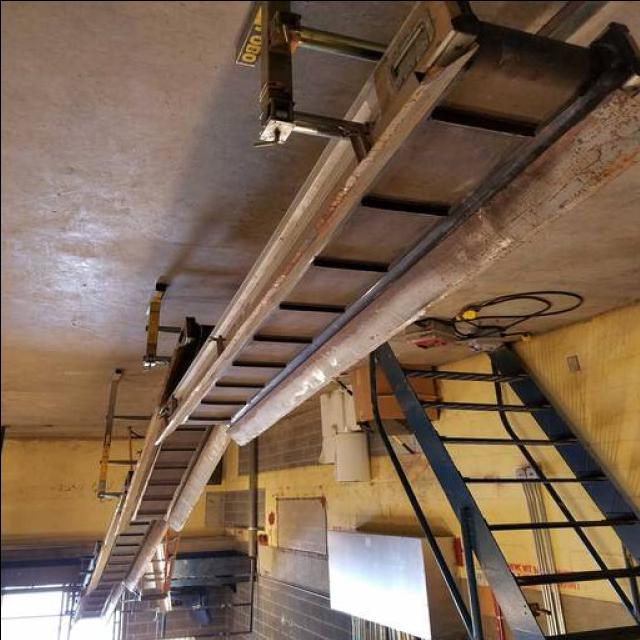conveyor: (72, 38, 611, 626)
